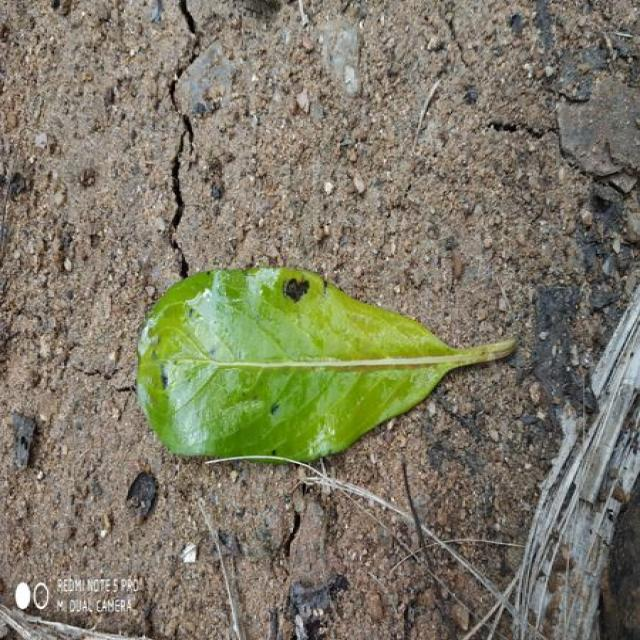catharanthus: (137, 268, 517, 461)
defectedcatharanthus: (215, 268, 379, 359)
